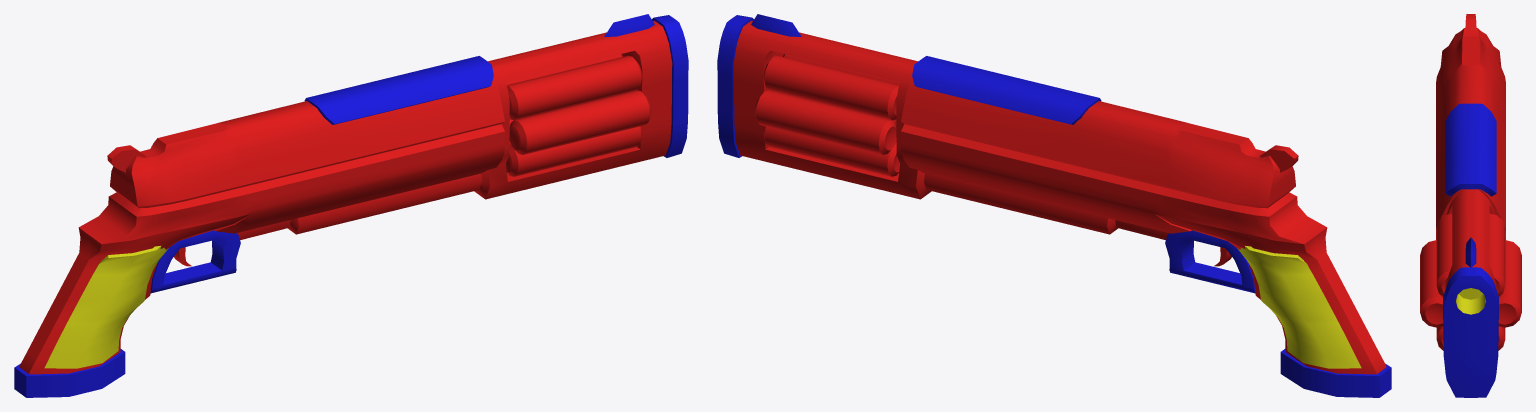
The model's file is AtelierLogicRevolver.fbx.
The picture shows the model from 3 angles, left to right: view 1: azimuth 30°, elevation 25°; view 2: azimuth 150°, elevation 25°; view 3: azimuth 270°, elevation 25°; orthographic projection. The views are drawn at different scales.
Parts seen in each view (by area): view 1: Atelier Logic - Revolver; view 2: Atelier Logic - Revolver; view 3: Atelier Logic - Revolver.
Boxes of the visible parts, box(x1,y1,x2,y2) form: Atelier Logic - Revolver: box(14, 14, 688, 397); Atelier Logic - Revolver: box(717, 14, 1391, 397); Atelier Logic - Revolver: box(1420, 14, 1521, 397).
Bounding box in the file's own units: 49.11 × 16.21 × 6.98.
